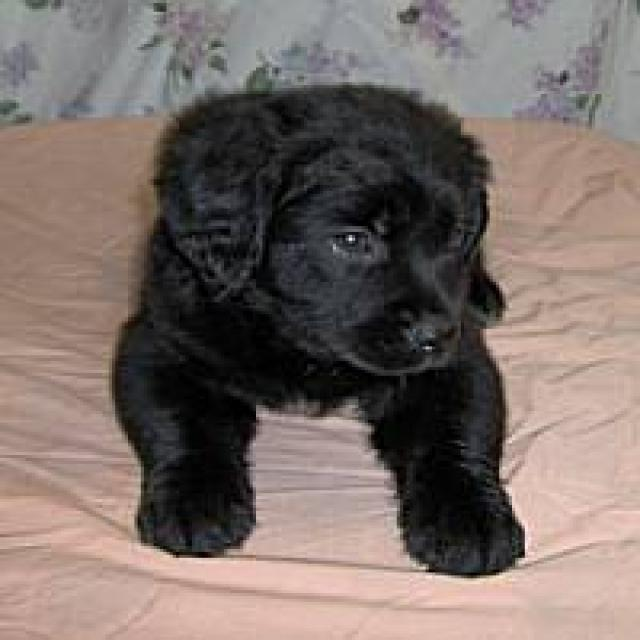dogs: (111, 82, 526, 578)
